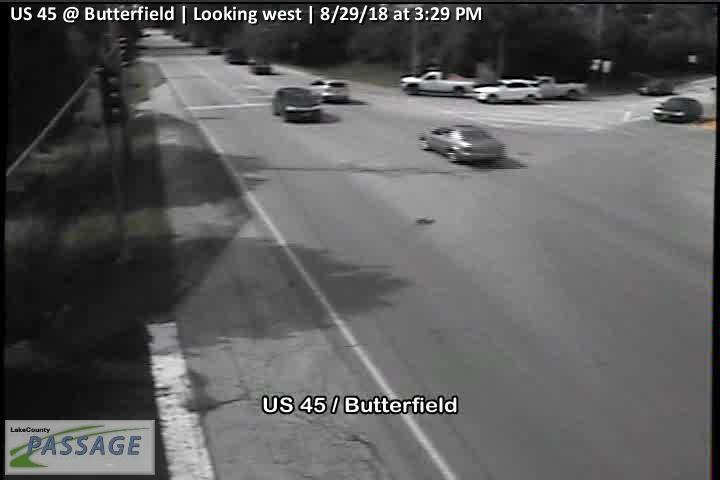SUV: (270, 87, 322, 124), (473, 78, 542, 105), (308, 78, 351, 104), (224, 48, 249, 65)
Sedan: (416, 123, 506, 167), (652, 96, 704, 125), (635, 78, 678, 97), (249, 60, 274, 76)
Truck: (400, 69, 475, 99), (532, 73, 590, 102)
